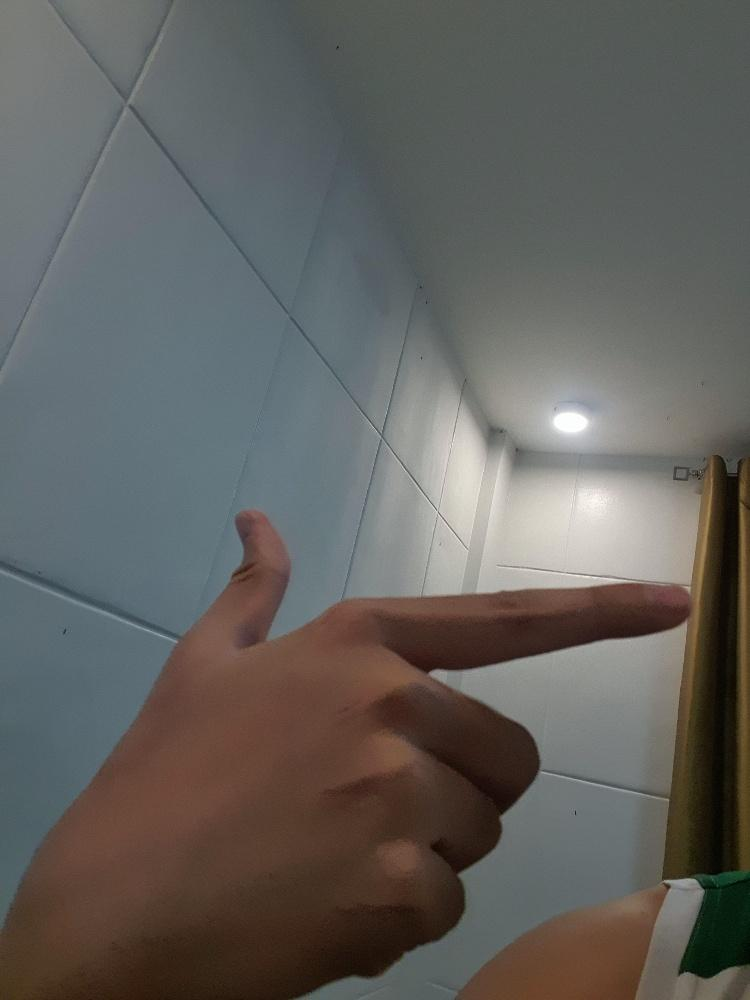g: (18, 502, 696, 999)
